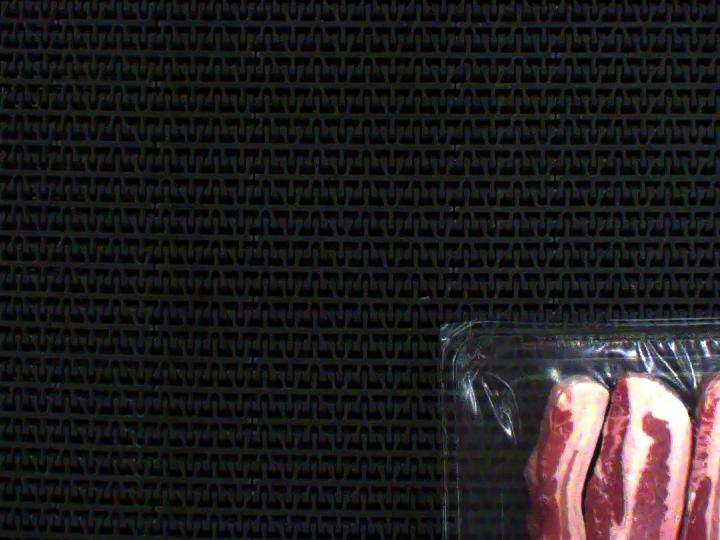unsealed: (440, 313, 720, 540)
